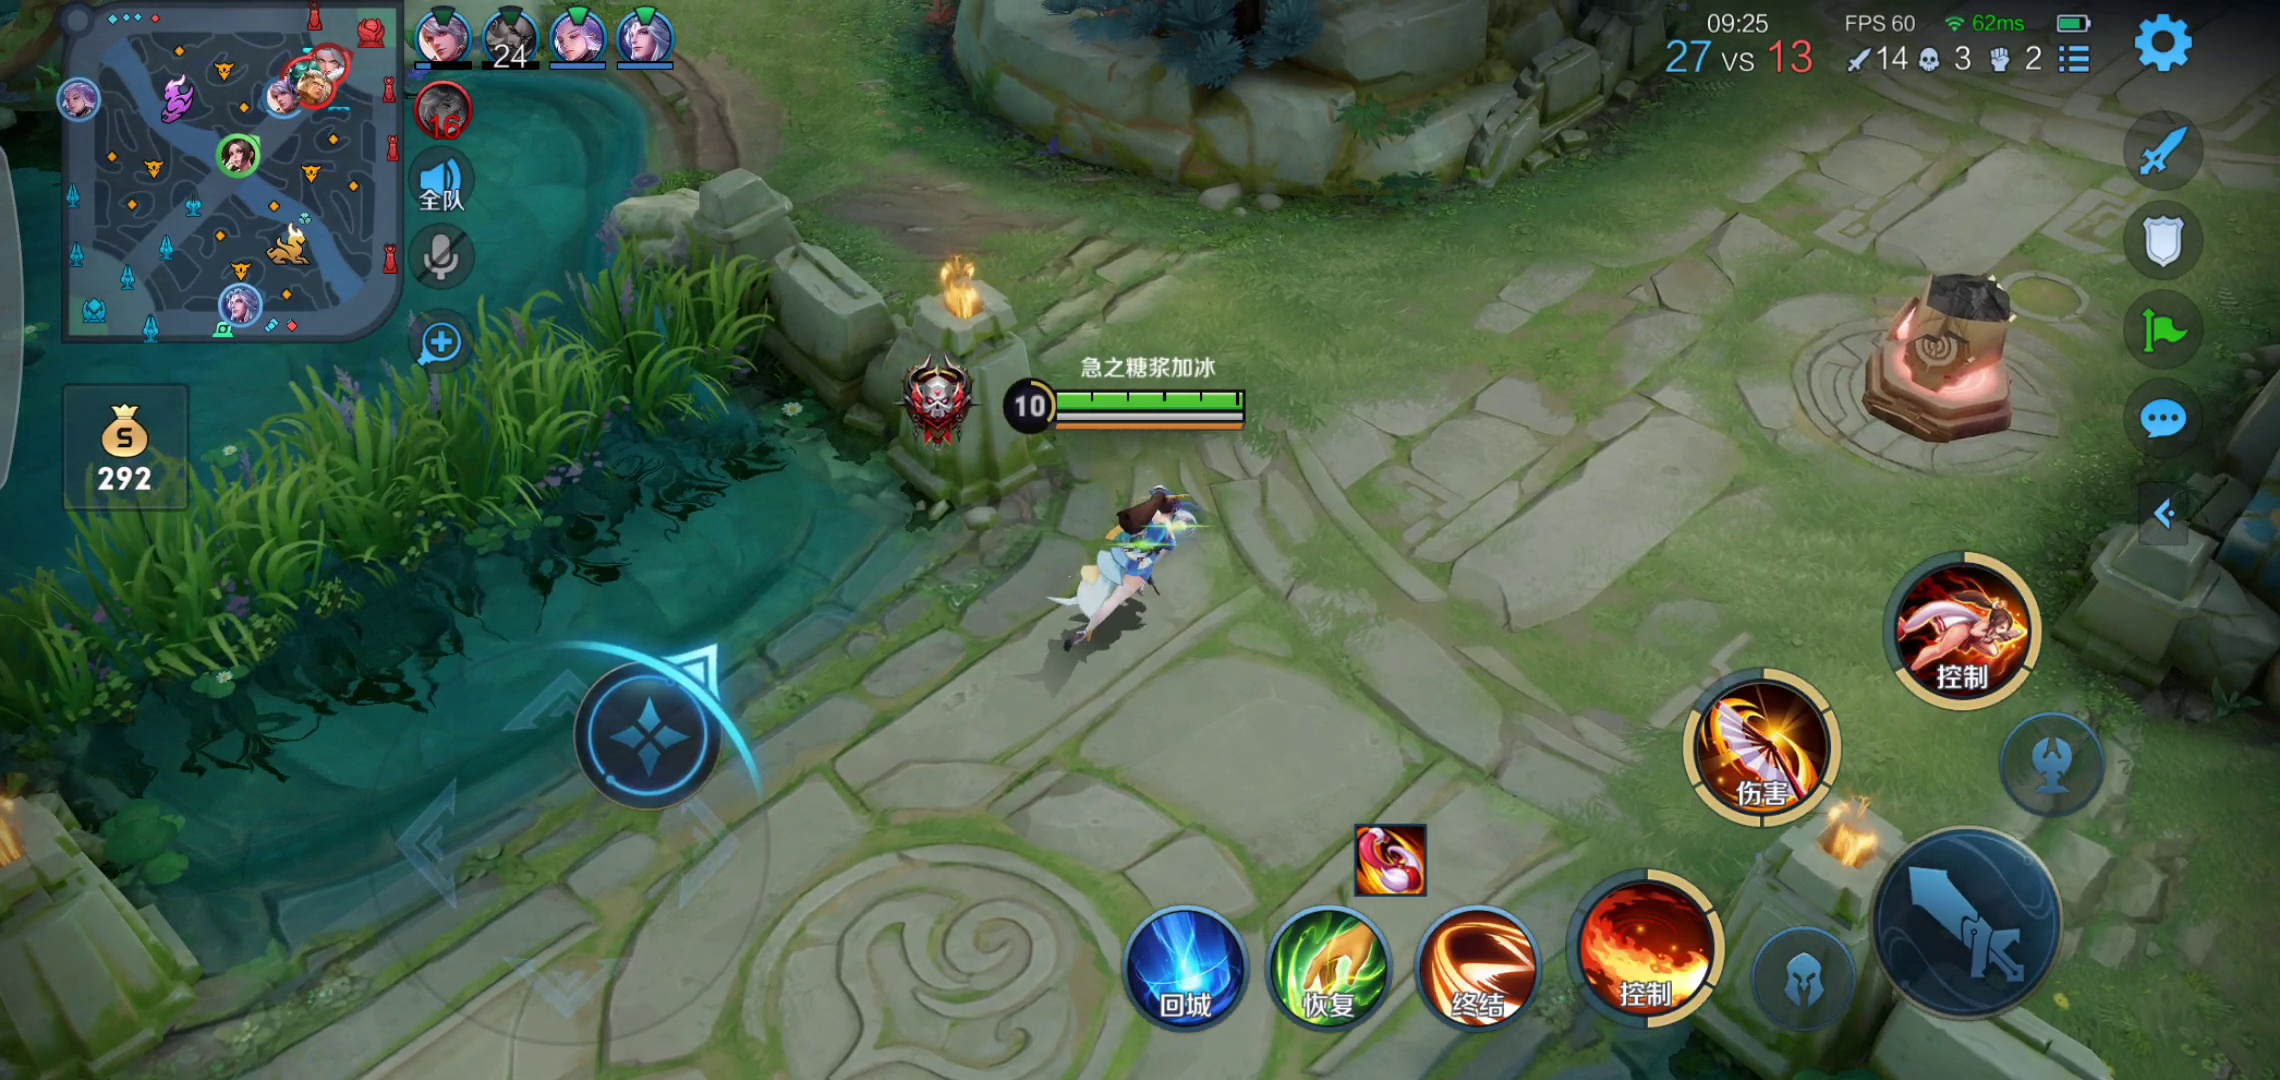grass: (15, 249, 774, 743)
hero: (1051, 483, 1191, 648)
tower: (1855, 257, 2031, 440)
